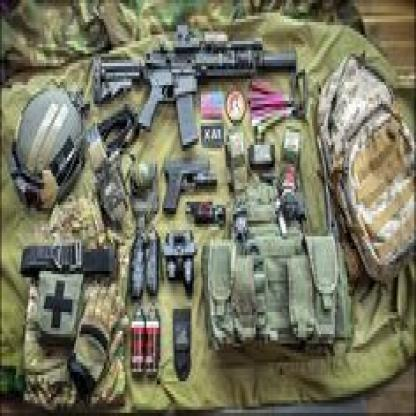Grenade: (145, 224, 163, 296), (130, 155, 157, 192), (130, 230, 144, 300)
Gun: (91, 21, 296, 150)
Pistol: (162, 156, 217, 216)
